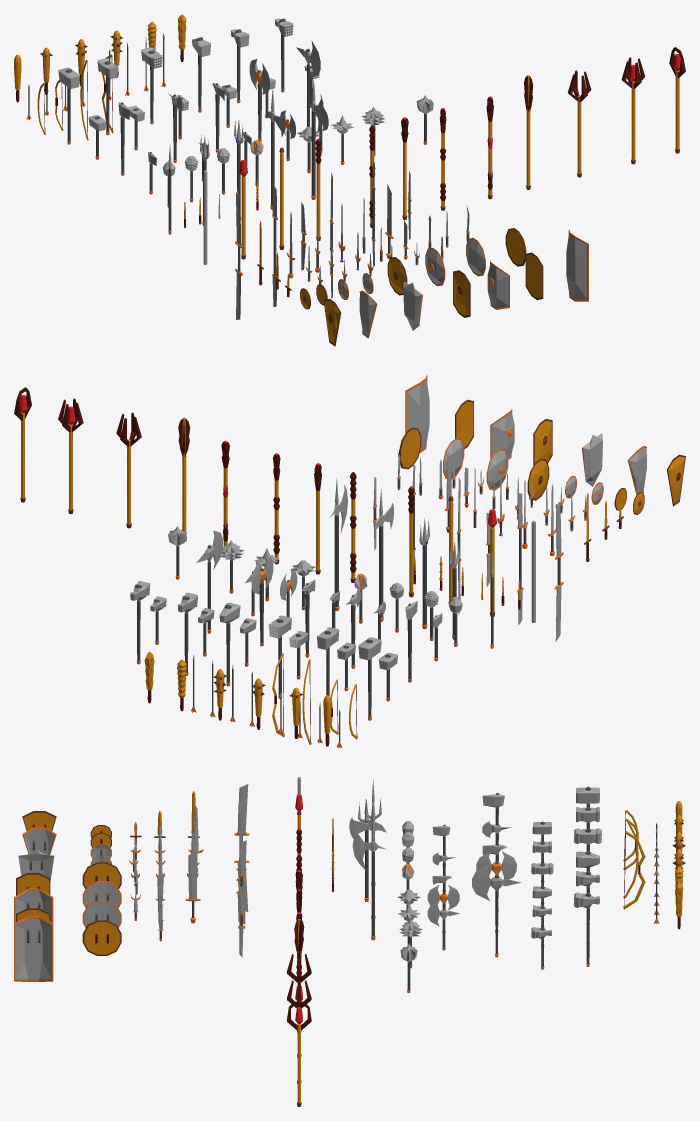
File: LowPolyWeaponsPack.fbx
3 renders of one model, top to bottom at view 1: azimuth 30°, elevation 25°; view 2: azimuth 150°, elevation 25°; view 3: azimuth 270°, elevation 25°, orthographic. The views are drawn at different scales.
Visible parts, largest first — view 1: ShieldRectangle4, ShieldRectangle1, Staff10, Staff9, ShieldRectangle2, Halberd2, RectangleShield1, Staff11, ShieldKite3, AxeLong4, Staff8, ShieldRound2 (+15 smaller); view 2: ShieldRectangle4, ShieldRectangle1, Staff10, Staff9, ShieldKite3, Halberd2, AxeLong4, RectangleShield1, Staff8, Staff11, ShieldRectangle2, Halberd (+19 smaller); view 3: ShieldRectangle4, ShieldRound2, AxeLong5, Halberd2, ShieldRectangle1, ShieldRound3, ShieldRound4, ShieldKite3, AxeLong4, Staff11, ShieldRound1, ShieldRectangle3 (+4 smaller).
Boxes of the visible parts, x1,y1,x2,y2 form: ShieldRectangle4: (566, 229, 588, 301); ShieldRectangle1: (487, 261, 509, 309); Staff10: (621, 57, 644, 164); Staff9: (568, 70, 591, 177); ShieldRectangle2: (525, 252, 543, 300); Halberd2: (307, 77, 323, 199); RectangleShield1: (453, 270, 470, 317); Staff11: (669, 47, 685, 153); ShieldKite3: (403, 282, 422, 330); AxeLong4: (249, 59, 269, 141); Staff8: (524, 75, 533, 189); ShieldRound2: (505, 228, 526, 266); ShieldRectangle4: (405, 375, 429, 452); ShieldRectangle1: (490, 409, 514, 459); Staff10: (58, 398, 83, 514); Staff9: (116, 412, 141, 528); ShieldKite3: (582, 434, 602, 486); Halberd2: (330, 479, 347, 610); AxeLong4: (251, 556, 273, 646); RectangleShield1: (533, 419, 552, 465); Staff8: (178, 417, 190, 541); Staff11: (14, 387, 31, 502); ShieldRectangle2: (455, 399, 473, 449); Halberd: (374, 489, 393, 621); ShieldRectangle4: (14, 916, 53, 981); ShieldRound2: (82, 920, 121, 955); AxeLong5: (472, 864, 520, 957); Halberd2: (352, 816, 386, 940); ShieldRectangle1: (14, 888, 53, 922); ShieldRound3: (82, 900, 121, 927); ShieldRound4: (82, 881, 121, 908); ShieldKite3: (18, 849, 54, 881); AxeLong4: (476, 851, 516, 932); Staff11: (287, 1001, 311, 1106); ShieldRound1: (82, 862, 121, 888); ShieldRectangle3: (22, 827, 56, 854).
Size of the model in its own units: 4914 by 1603 by 5929.
